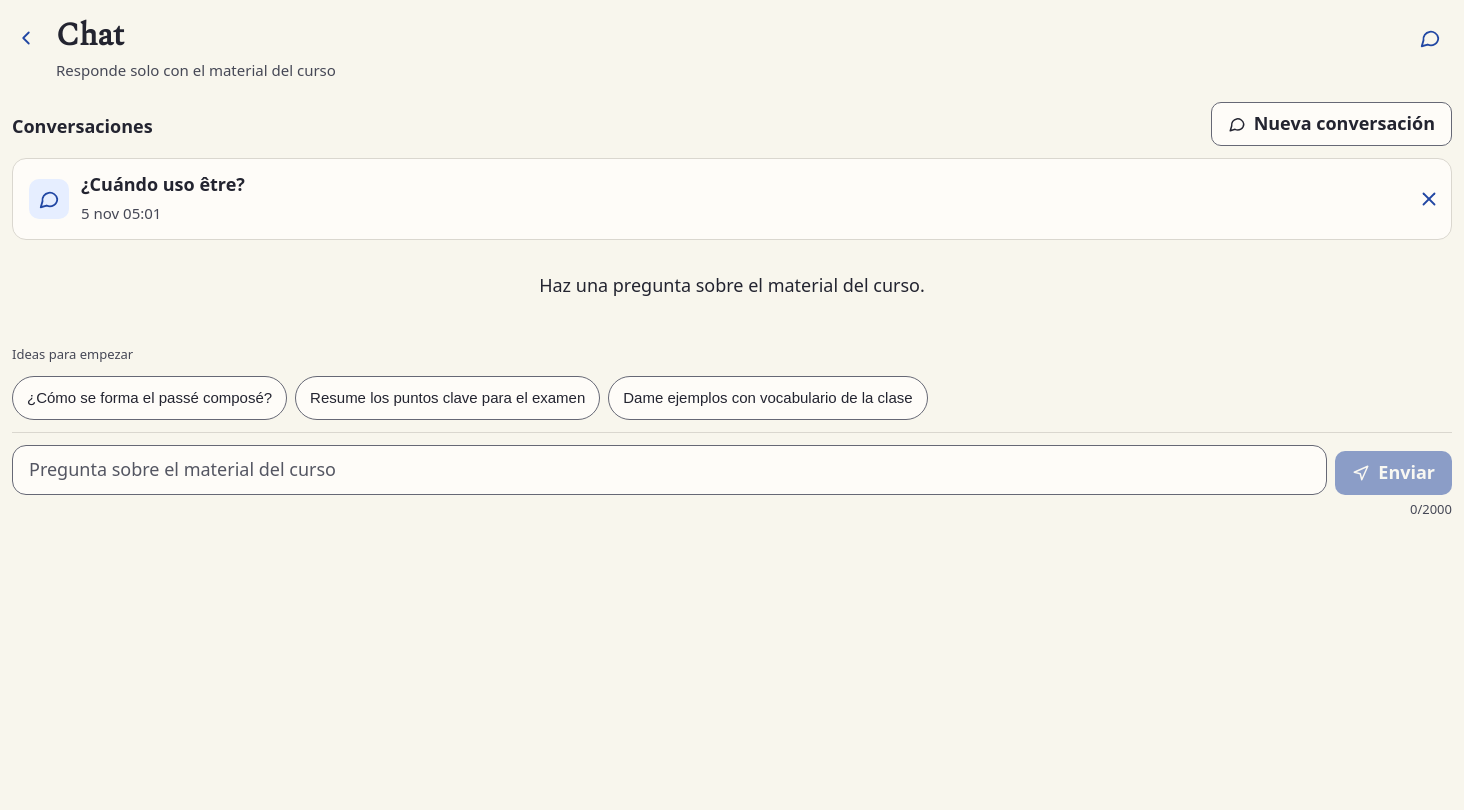
it: respuesta en streaming con citas enlazadas a publicación y página
The image size is (1464, 810).
Type "¿Cuándo uso être?" into the text box labelled "Pregunta" at (670, 470), box [12, 445, 1327, 495]
Then press Enter
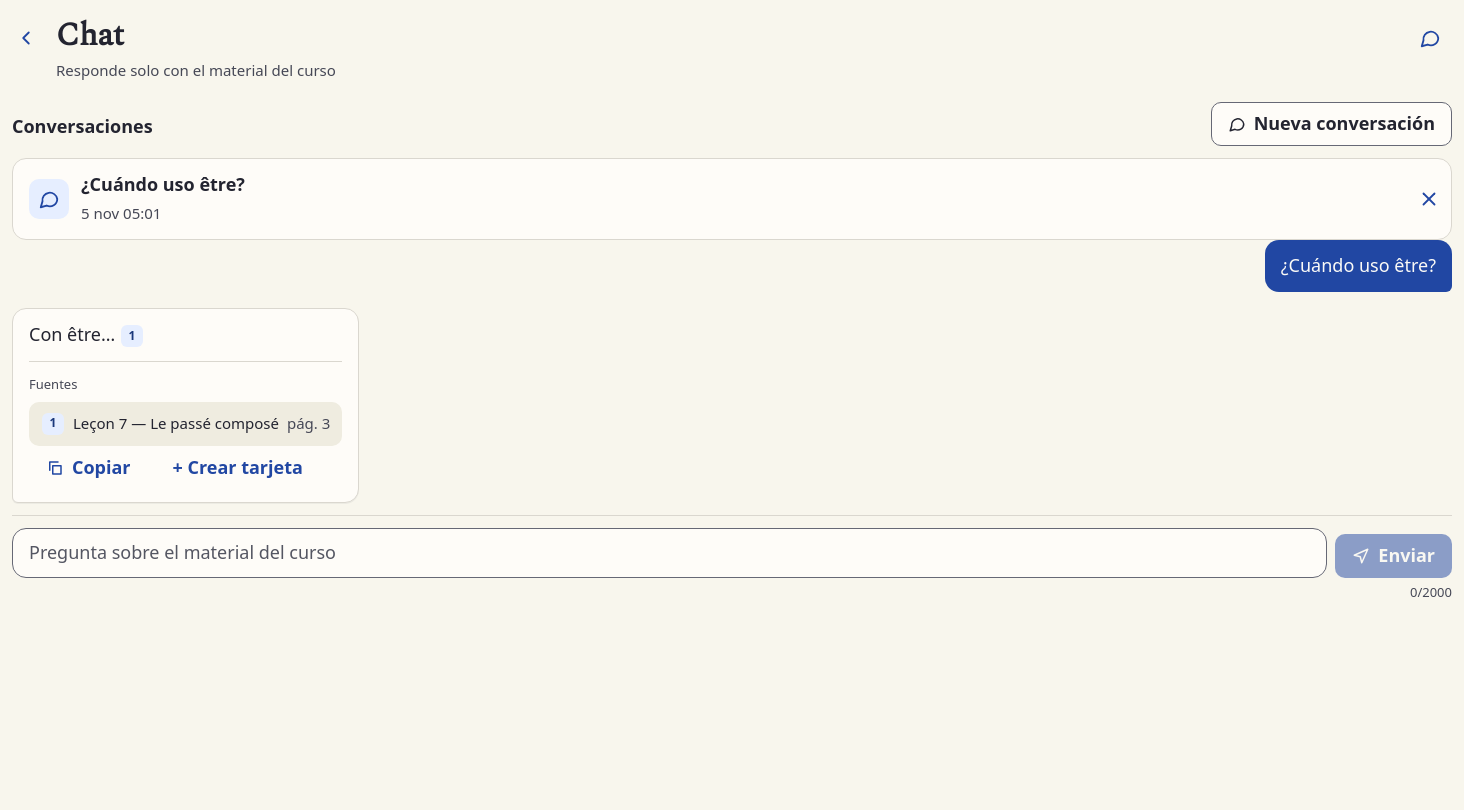
Expected: the text "Con être… 1" is shown, [29, 322, 143, 347]
Expected: the text "Fuentes" is shown, [29, 375, 77, 393]
